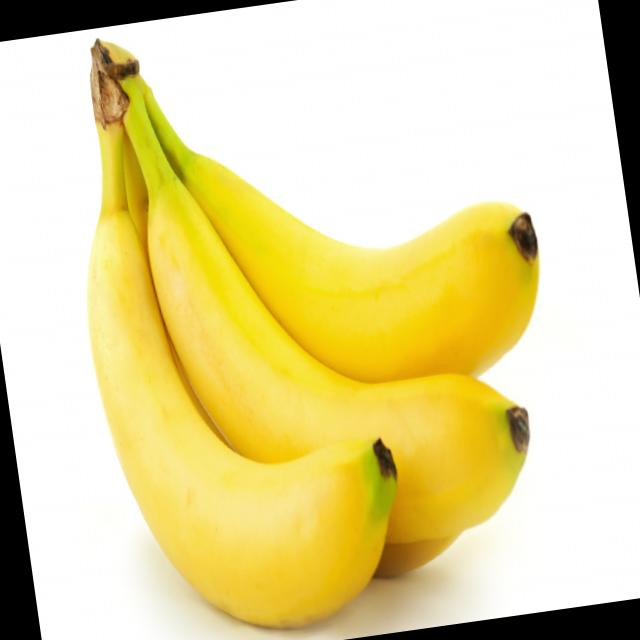banana: (137, 126, 548, 564), (72, 164, 405, 640), (149, 70, 566, 412)
